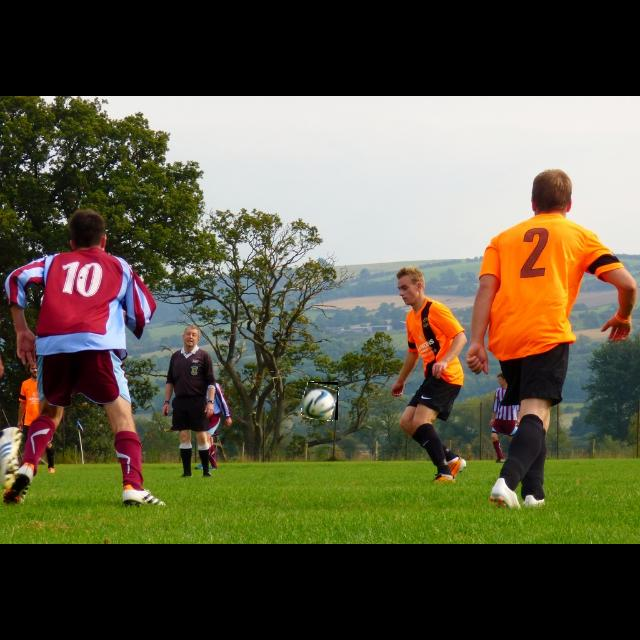Football: (302, 382, 338, 420)
